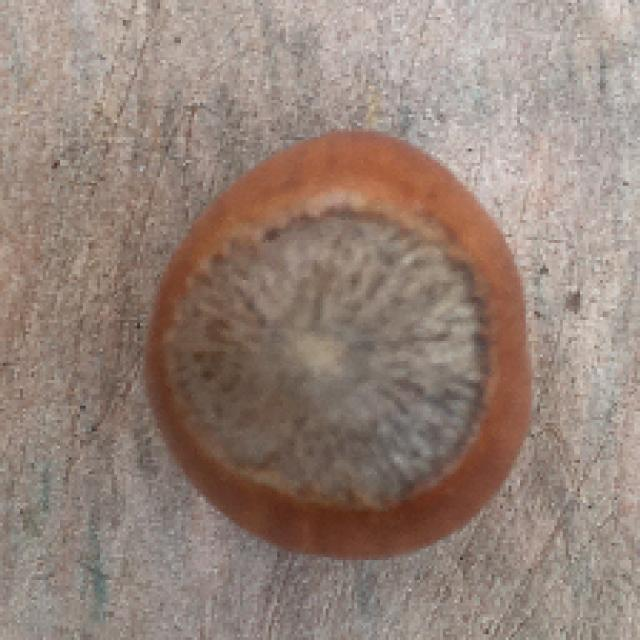qualityHazelnut: (156, 125, 539, 564)
